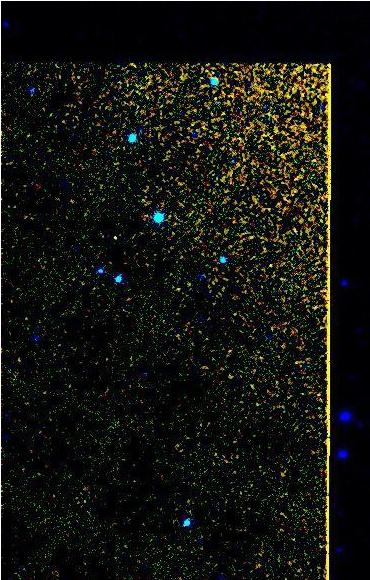star: (99, 221, 129, 251)
